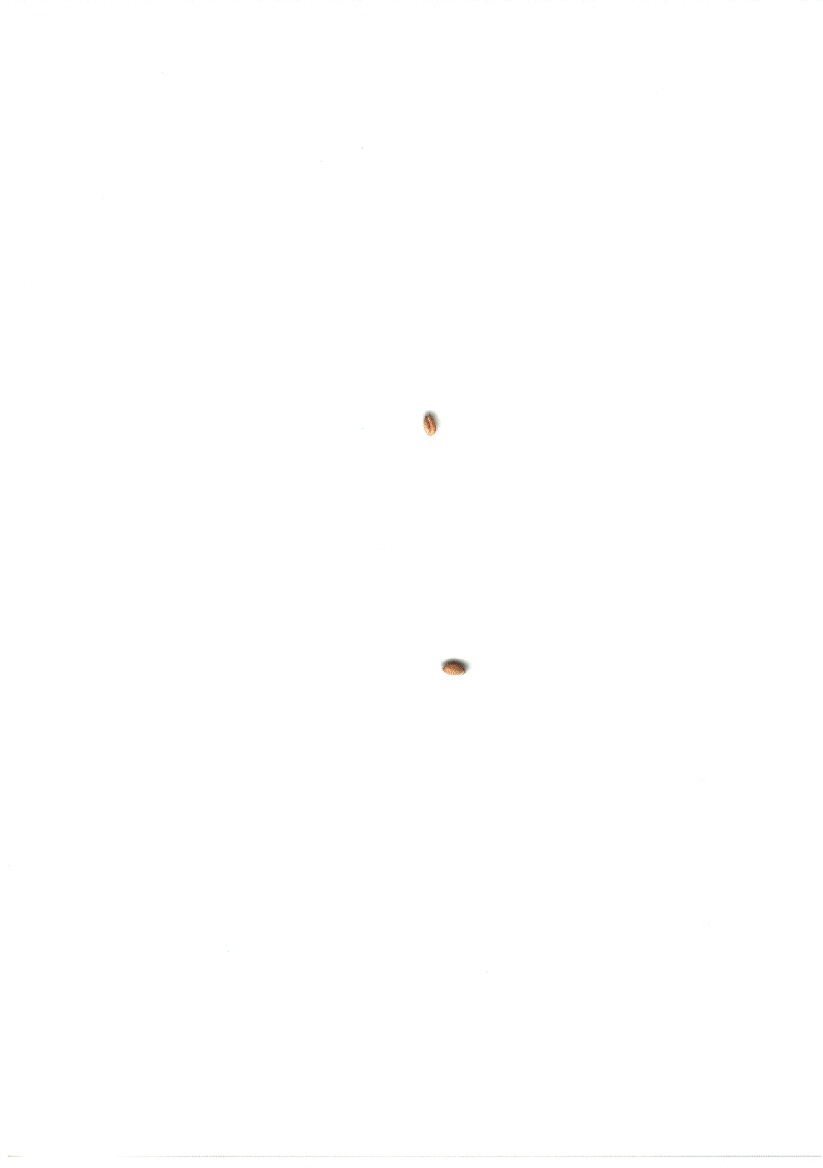grains: (436, 654, 475, 686), (414, 403, 445, 442)
